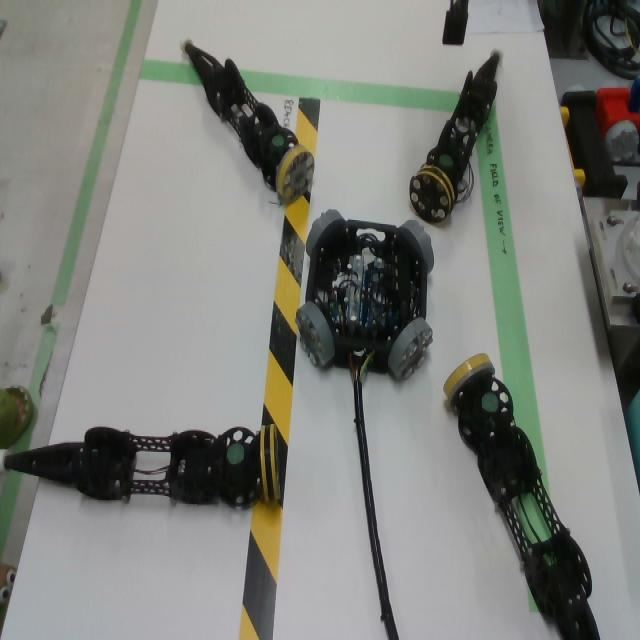body: (306, 220, 427, 375)
body_connector: (388, 317, 434, 381), (296, 301, 336, 367), (398, 220, 435, 275), (306, 209, 344, 257)
leg: (442, 352, 601, 640), (0, 424, 281, 507), (180, 36, 315, 203), (409, 47, 504, 224)
leg_connector: (443, 353, 496, 407), (409, 164, 456, 224), (275, 145, 314, 205), (260, 424, 281, 503)
leg_marker: (226, 444, 245, 465), (481, 393, 498, 413), (439, 153, 453, 167), (271, 135, 284, 147)
